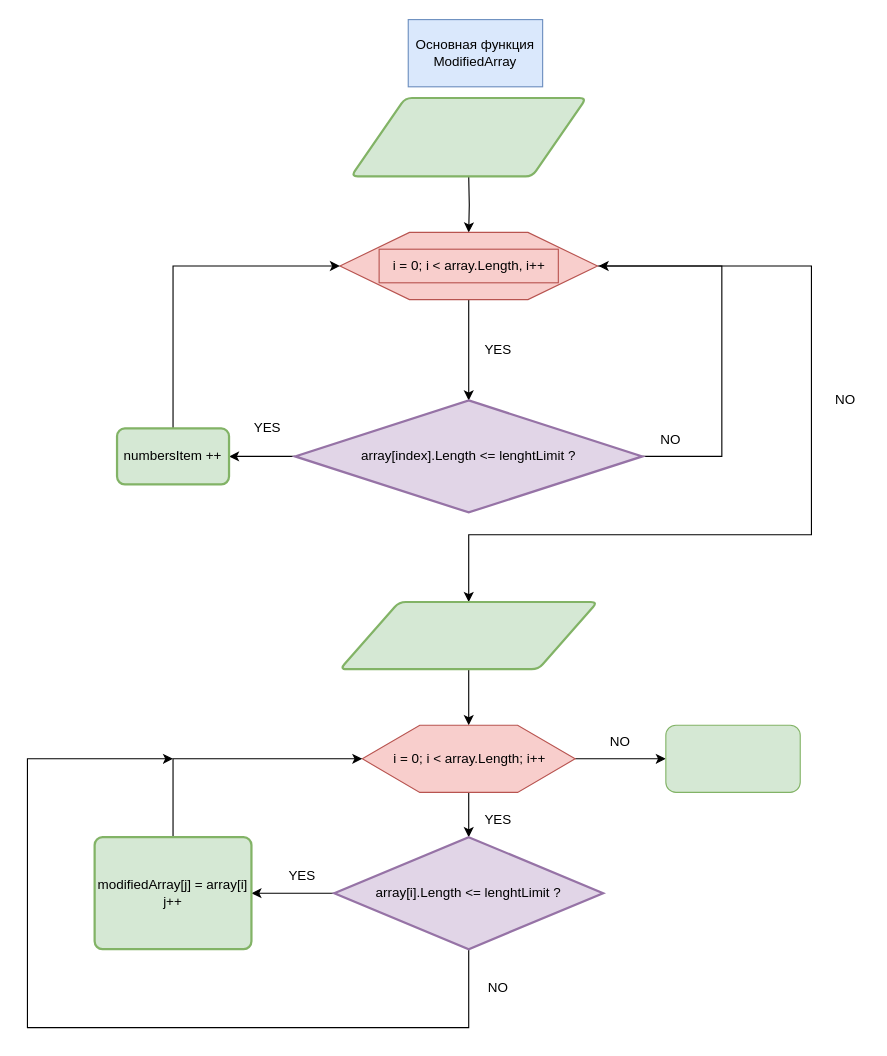
The diagram is 887 pixels wide and 1056 high, and some of its shapes have lost their labels. Each missing label, with the box of its shape:
modifiedArray[numbersItem] j = 0: (338, 600, 598, 670)
numbersItem = 0 lengthLimit = 3 array[size]: (349, 96, 587, 177)
return modifiedArray: (665, 724, 800, 792)
